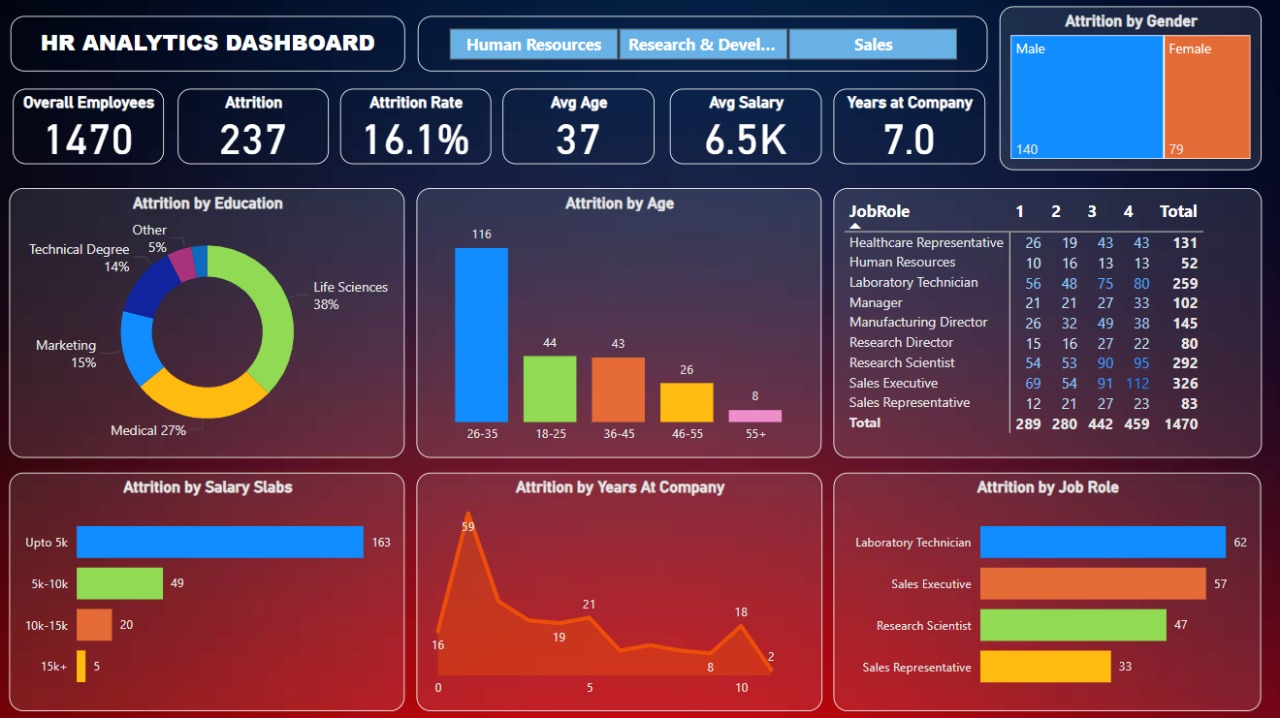

What the dashboard file says about the page in this screenshot:
{"tool":"powerbi","page":{"name":"Page 1","canvas":[1280,720],"ordinal":0},"visuals":[{"type":"card","title":"Overall Employees","fields":{"Values":["CountNonNull(HR_Analytics.EmpID)"]},"box":[15.1,89.2,150,75.5],"z":0},{"type":"card","title":"Attrition","fields":{"Values":["Sum(HR_Analytics.AttritionCount)"]},"box":[179.8,89.2,150,75.5],"z":1000},{"type":"card","title":"Attrition Rate","fields":{"Values":["HR_Analytics.AttritionRate"]},"box":[341.7,89.2,150,75.5],"z":2000},{"type":"card","title":"Avg Age","fields":{"Values":["Avg(HR_Analytics.Age)"]},"box":[503.6,89.2,150.9,75.5],"z":3000},{"type":"card","title":"Avg Salary","fields":{"Values":["Avg(HR_Analytics.MonthlyIncome)"]},"box":[669.6,89.2,150.9,75.5],"z":4000},{"type":"card","title":"Years at Company","fields":{"Values":["Avg(HR_Analytics.YearsAtCompany)"]},"box":[832.9,89.2,150.9,75.5],"z":5000},{"type":"donutChart","title":"Attrition by Education","fields":{"Category":["HR_Analytics.EducationField"],"Y":["Sum(HR_Analytics.AttritionCount)"]},"box":[12.3,188,393.8,269],"z":6000},{"type":"columnChart","title":"Attrition by Age","fields":{"Category":["HR_Analytics.AgeGroup"],"Y":["Sum(HR_Analytics.AttritionCount)"]},"box":[417.2,188,403.4,269],"z":7000},{"type":"pivotTable","fields":{"Rows":["HR_Analytics.JobRole"],"Columns":["HR_Analytics.JobSatisfaction"],"Values":["CountNonNull(HR_Analytics.Attrition)"]},"box":[832.9,188,426.8,269],"z":8000},{"type":"barChart","title":"Attrition by Salary Slabs","fields":{"Category":["HR_Analytics.SalarySlab"],"Y":["Sum(HR_Analytics.AttritionCount)"]},"box":[12.3,472,393.8,237.4],"z":9000},{"type":"barChart","title":"Attrition by Job Role","fields":{"Category":["HR_Analytics.JobRole"],"Y":["Sum(HR_Analytics.AttritionCount)"]},"box":[832.4,471.7,425.9,237.7],"z":10000},{"type":"areaChart","title":"Attrition by Years At Company","fields":{"Category":["HR_Analytics.YearsAtCompany"],"Y":["Sum(HR_Analytics.AttritionCount)"]},"box":[416.9,471.8,404.1,237.7],"z":11000},{"type":"treemap","title":"Attrition by Gender","fields":{"Group":["HR_Analytics.Gender"],"Values":["Sum(HR_Analytics.AttritionCount)"]},"box":[997.7,7.2,260.6,162.9],"z":12000},{"type":"slicer","fields":{"Values":["HR_Analytics.Department"]},"box":[418.7,16.5,566.9,54.9],"z":13000},{"type":"textbox","box":[12.8,16.5,393.1,54.9],"z":14000}]}

Visuals, with their boxes in screenshot pixels (x1, y1, x2, y2), scaled from the page's 1280x720 canvas onto the 1280x718 screenshot:
"Overall Employees" card: [left=15, top=89, right=165, bottom=164]
"Attrition" card: [left=180, top=89, right=330, bottom=164]
"Attrition Rate" card: [left=342, top=89, right=492, bottom=164]
"Avg Age" card: [left=504, top=89, right=654, bottom=164]
"Avg Salary" card: [left=670, top=89, right=820, bottom=164]
"Years at Company" card: [left=833, top=89, right=984, bottom=164]
"Attrition by Education" donutChart: [left=12, top=187, right=406, bottom=456]
"Attrition by Age" columnChart: [left=417, top=187, right=821, bottom=456]
pivotTable - HR_Analytics.JobRole x HR_Analytics.JobSatisfaction: [left=833, top=187, right=1260, bottom=456]
"Attrition by Salary Slabs" barChart: [left=12, top=471, right=406, bottom=707]
"Attrition by Job Role" barChart: [left=832, top=470, right=1258, bottom=707]
"Attrition by Years At Company" areaChart: [left=417, top=470, right=821, bottom=708]
"Attrition by Gender" treemap: [left=998, top=7, right=1258, bottom=170]
slicer - HR_Analytics.Department: [left=419, top=16, right=986, bottom=71]
textbox: [left=13, top=16, right=406, bottom=71]
